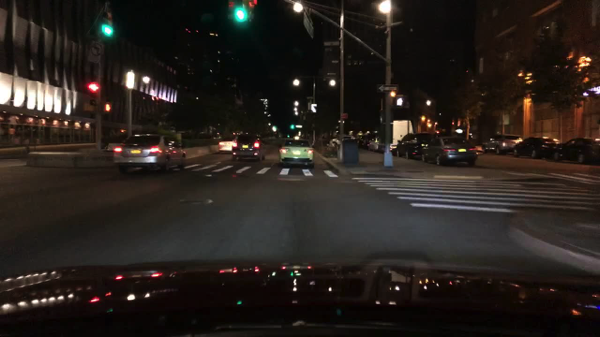car: (112, 132, 186, 173), (423, 135, 477, 167), (553, 138, 598, 165), (231, 132, 266, 162), (278, 138, 314, 167), (513, 136, 560, 158), (395, 134, 431, 160), (481, 133, 521, 154), (218, 132, 237, 154), (330, 135, 356, 146), (358, 137, 373, 149), (368, 137, 380, 151)
traffic light: (103, 10, 112, 40), (236, 1, 245, 20), (88, 81, 99, 93), (396, 96, 405, 110), (228, 0, 235, 14), (248, 1, 257, 8), (104, 104, 111, 112), (291, 124, 295, 130)
traffic sign: (303, 12, 315, 39), (88, 42, 102, 65), (378, 86, 397, 93), (324, 41, 340, 46), (342, 114, 347, 119), (296, 125, 301, 129)
